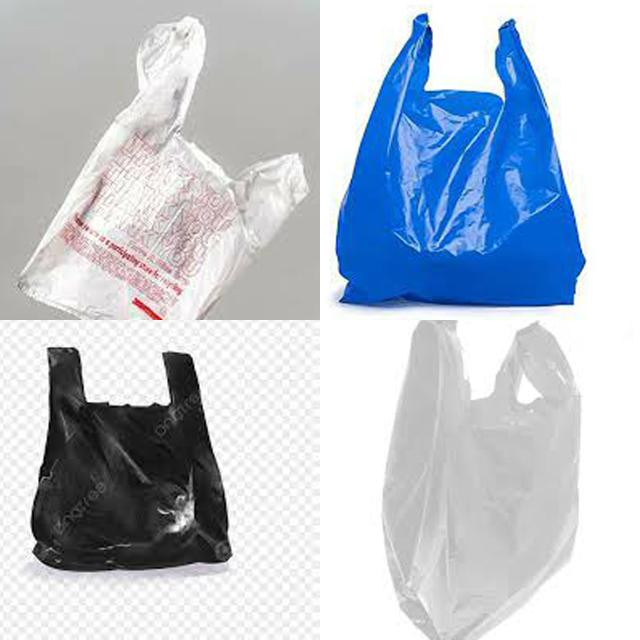Single-layer Plastic: (18, 16, 309, 319), (336, 14, 585, 304), (382, 321, 580, 640), (31, 348, 231, 571)
